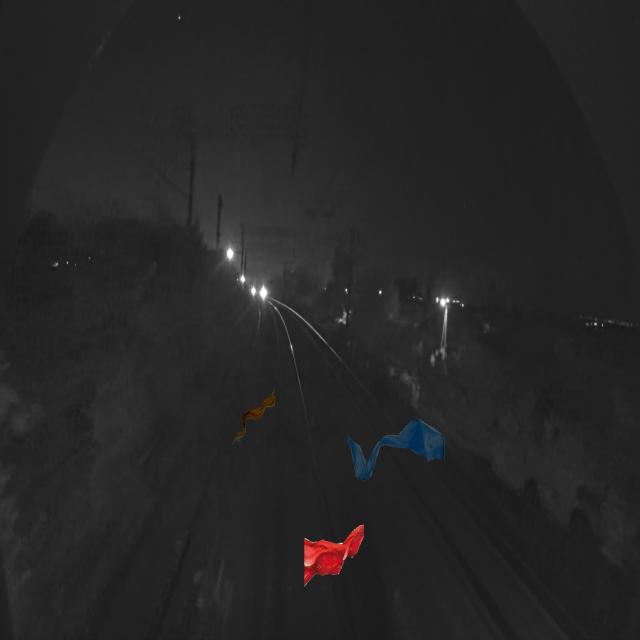floating object: (347, 418, 445, 482), (304, 522, 364, 586), (232, 385, 276, 449)
